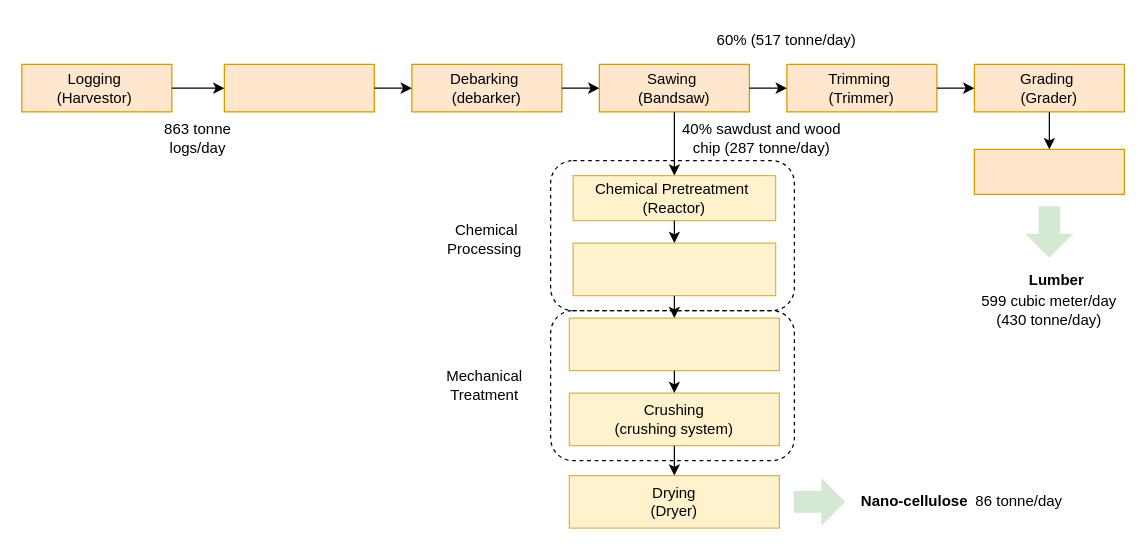
This 1146x550 diagram has some shape labels left out. Here are the shapes that lost their labels. From the top down, the centre of each, then its label:
pixel 298 87: Log transportation (Truck)
pixel 1048 171: Storing & Drying (Storage)
pixel 674 269: Homogenizing (high-pressure Homogenizer)
pixel 673 344: Disk refining (refiner machine)
